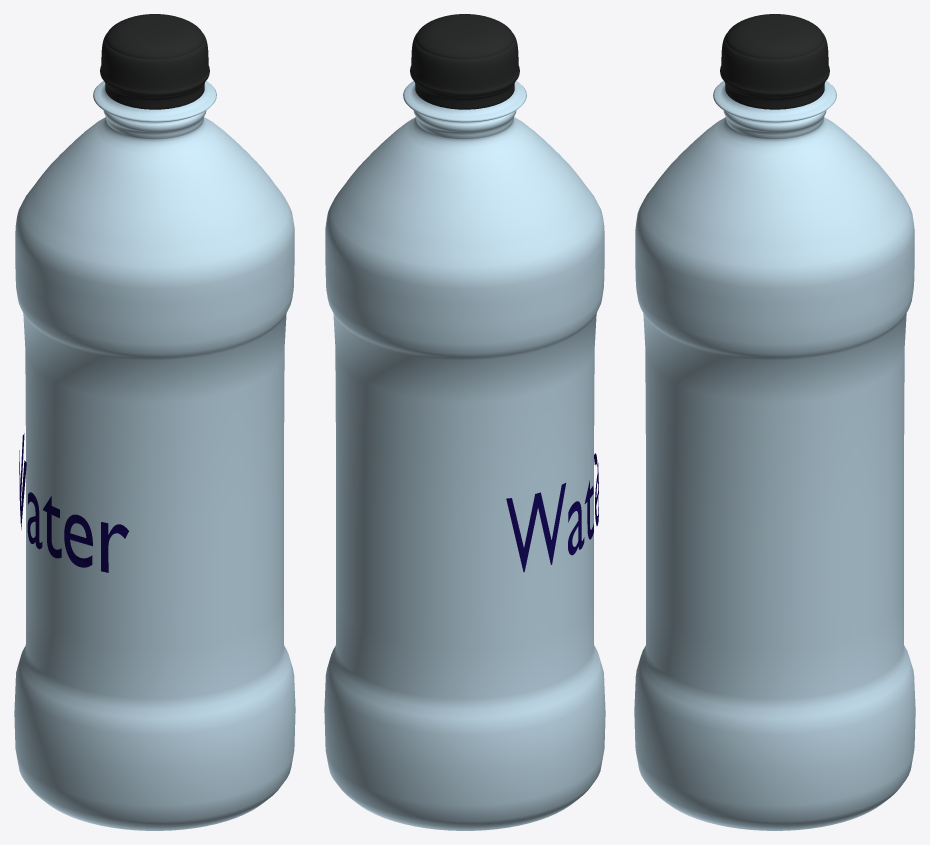
Rendered from waterAnim.fbx.
3 renders of one model, left to right at view 1: azimuth 30°, elevation 25°; view 2: azimuth 150°, elevation 25°; view 3: azimuth 270°, elevation 25°, orthographic.
Parts seen in each view (by area): view 1: Cylinder.003; view 2: Cylinder.003; view 3: Cylinder.003.
Part boxes in pixels (<box>): Cylinder.003: <box>14,14,295,830</box>; Cylinder.003: <box>324,14,605,830</box>; Cylinder.003: <box>634,14,915,830</box>.
Size of the model in its own units: 64.41 by 191 by 64.41.
